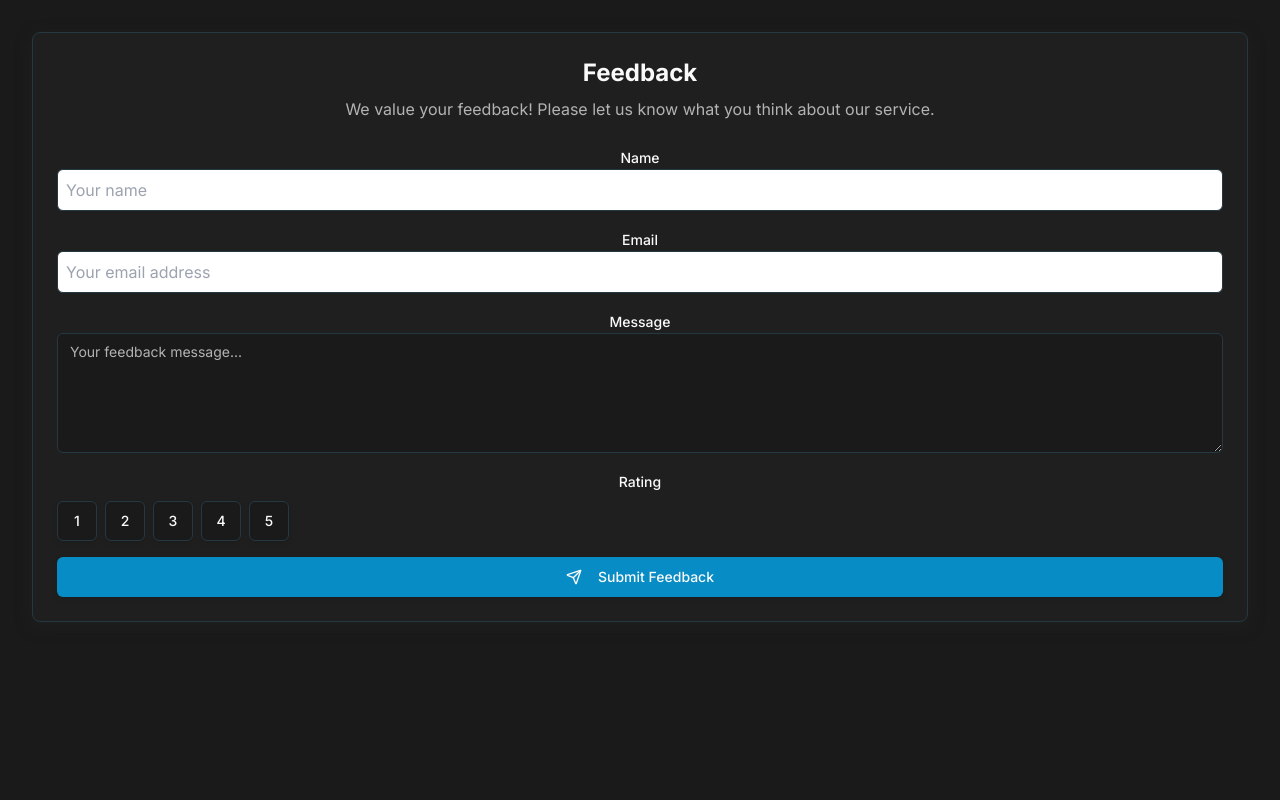
FeedbackForm Component › validates form fields on submission
Submit form without filling any fields
Click the button "Submit Feedback": [640, 577] box [57, 557, 1223, 597]
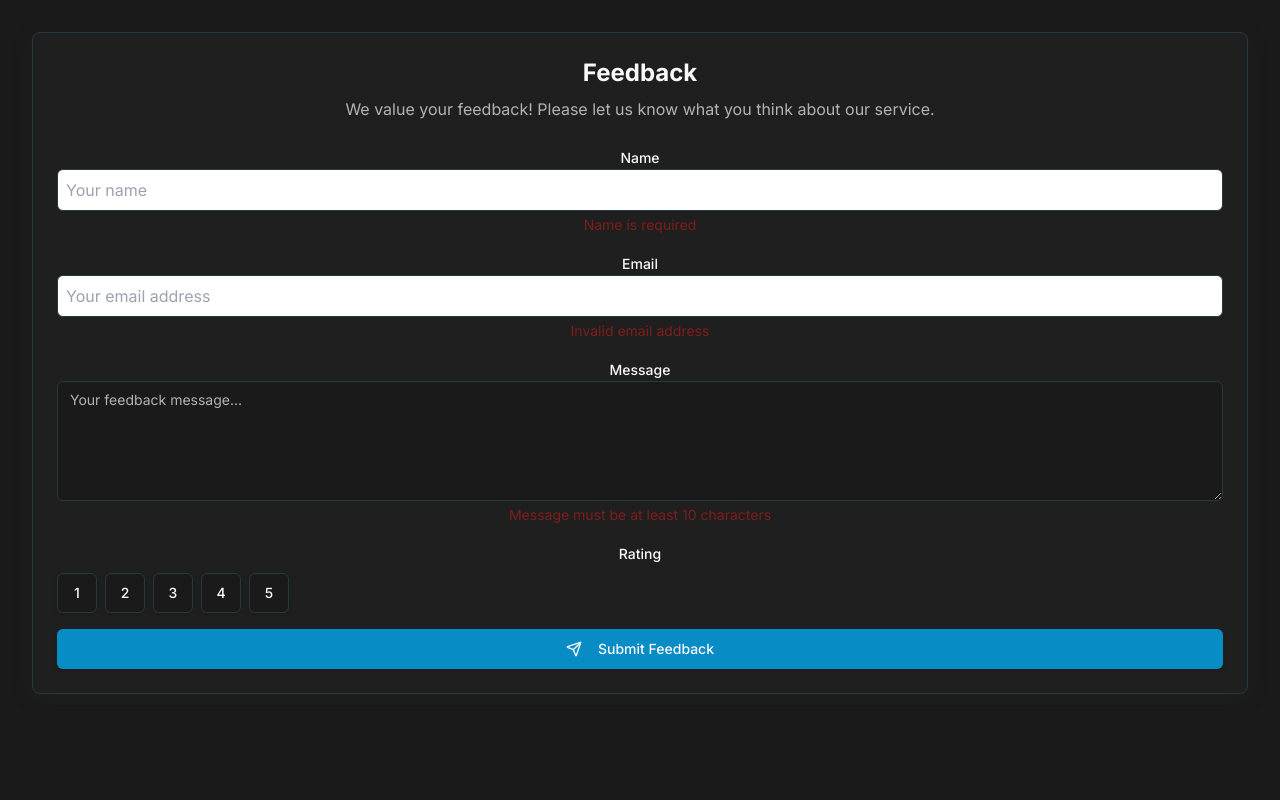
Result: the text "Name is required" is shown at [584, 216, 696, 233]
Result: the text "Invalid email address" is shown at [571, 322, 709, 339]
Result: the text "Message must be at least 10 characters" is shown at [509, 506, 771, 523]
